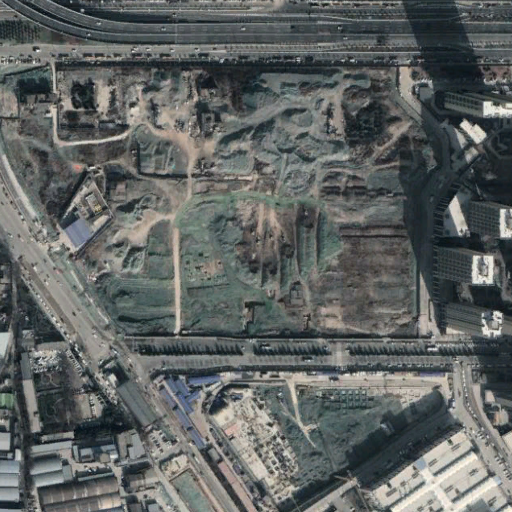cw: (10, 64, 420, 335), (252, 376, 413, 500)
